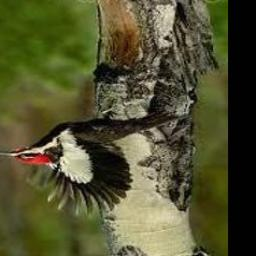Woodpecker: (0, 109, 186, 217)
